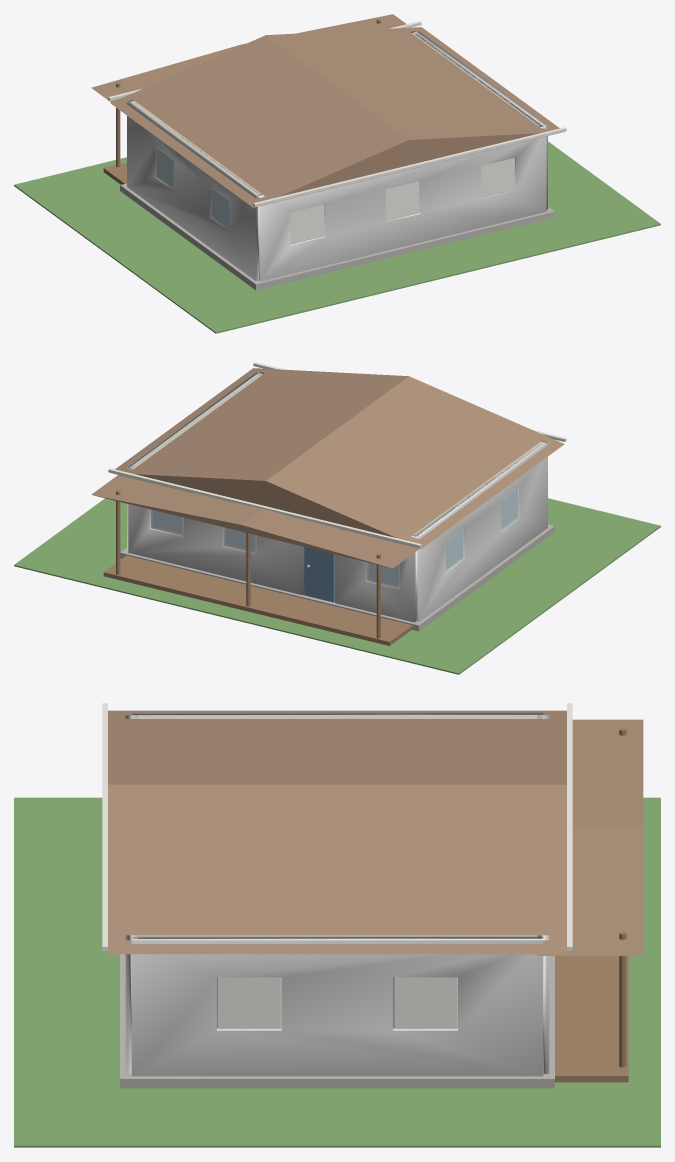
The model's file is bungalow.glb.
3 views of the same model, one above another, from view 1: azimuth 30°, elevation 25°; view 2: azimuth 150°, elevation 25°; view 3: azimuth 270°, elevation 25° (orthographic). The views are drawn at different scales.
Visible parts, largest first — view 1: roof, lawn, back_wall, left_wall, frame (×5), foundation, porch_roof, back_gutter, ceiling, right_wall, glass (×2); view 2: roof, lawn, front_wall, left_wall, porch_roof, porch_slab, frame (×5), foundation, glass (×5), front_gutter, panel, ceiling (+1 smaller); view 3: roof, lawn, right_wall, porch_roof, porch_slab, foundation, frame (×2), ceiling, left_wall, front_gutter, back_gutter, post_r (+2 smaller).
Part boxes in pixels (x1=…): roof: x1=110, y1=27, x2=563, y2=207; lawn: x1=14, y1=141, x2=660, y2=333; back_wall: x1=257, y1=125, x2=546, y2=281; left_wall: x1=127, y1=102, x2=259, y2=280; frame (×5): x1=156, y1=147, x2=514, y2=243; foundation: x1=120, y1=183, x2=554, y2=290; porch_roof: x1=91, y1=14, x2=406, y2=102; back_gutter: x1=253, y1=127, x2=566, y2=207; ceiling: x1=130, y1=33, x2=542, y2=195; right_wall: x1=413, y1=31, x2=547, y2=209; glass (×2): x1=157, y1=148, x2=228, y2=228; roof: x1=111, y1=368, x2=564, y2=548; lawn: x1=14, y1=498, x2=660, y2=674; front_wall: x1=128, y1=467, x2=417, y2=622; left_wall: x1=414, y1=443, x2=547, y2=621; porch_roof: x1=91, y1=475, x2=419, y2=568; porch_slab: x1=103, y1=555, x2=412, y2=645; frame (×5): x1=150, y1=488, x2=518, y2=588; foundation: x1=120, y1=524, x2=554, y2=631; glass (×5): x1=152, y1=489, x2=517, y2=586; front_gutter: x1=108, y1=468, x2=421, y2=548; panel: x1=304, y1=547, x2=334, y2=602; ceiling: x1=130, y1=373, x2=544, y2=536; roof: x1=108, y1=710, x2=566, y2=954; lawn: x1=14, y1=797, x2=660, y2=1147; right_wall: x1=131, y1=936, x2=543, y2=1076; porch_roof: x1=537, y1=719, x2=643, y2=955; porch_slab: x1=555, y1=956, x2=628, y2=1082; foundation: x1=120, y1=954, x2=554, y2=1088; frame (×2): x1=217, y1=977, x2=457, y2=1028; ceiling: x1=131, y1=715, x2=543, y2=938; left_wall: x1=131, y1=712, x2=543, y2=717; front_gutter: x1=567, y1=703, x2=572, y2=950; back_gutter: x1=102, y1=703, x2=107, y2=950; post_r: x1=619, y1=931, x2=626, y2=1067.
Size of the model in its own units: 14 by 3.55 by 11.
